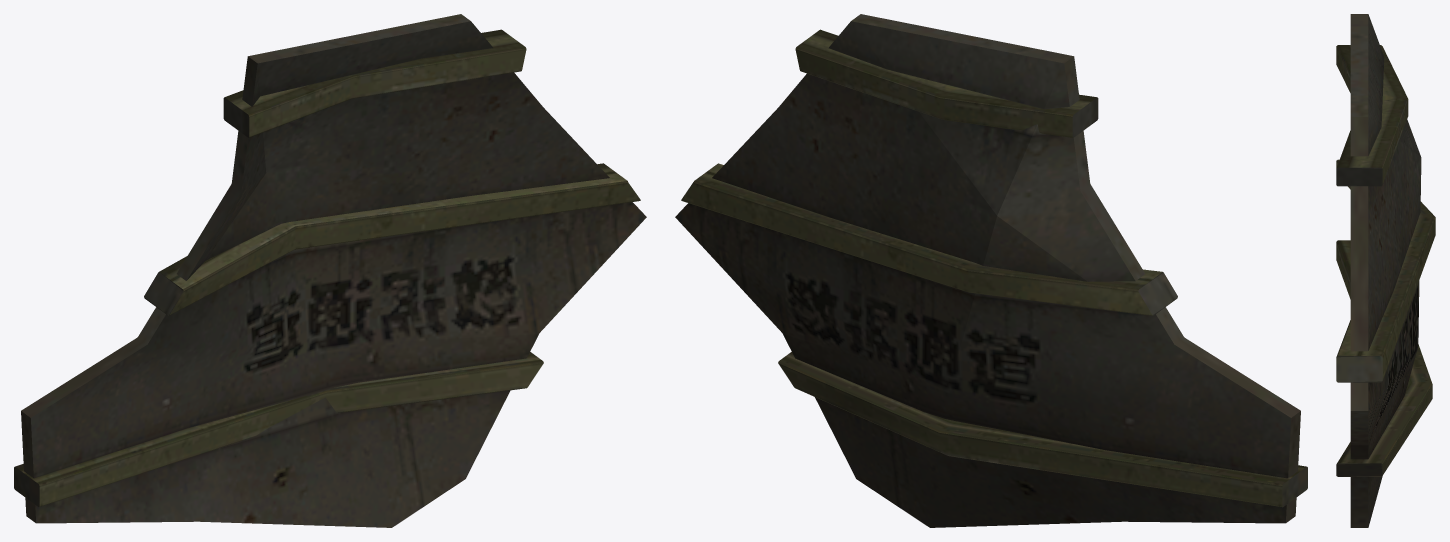
Rendered from slidedoor_data_tunnel_damaged_03_03.DAE.
The picture shows the model from 3 angles, left to right: view 1: azimuth 30°, elevation 25°; view 2: azimuth 150°, elevation 25°; view 3: azimuth 270°, elevation 25°; orthographic projection. The views are drawn at different scales.
Parts seen in each view (by area): view 1: slidedoor_data_tunnel_damaged_03_03; view 2: slidedoor_data_tunnel_damaged_03_03; view 3: slidedoor_data_tunnel_damaged_03_03.
Part boxes in pixels (x1,y1,x2,y2): slidedoor_data_tunnel_damaged_03_03: (14, 14, 646, 527); slidedoor_data_tunnel_damaged_03_03: (675, 14, 1307, 527); slidedoor_data_tunnel_damaged_03_03: (1336, 14, 1435, 527).
Size of the model in its own units: 4.86 by 0.7487 by 3.75.
